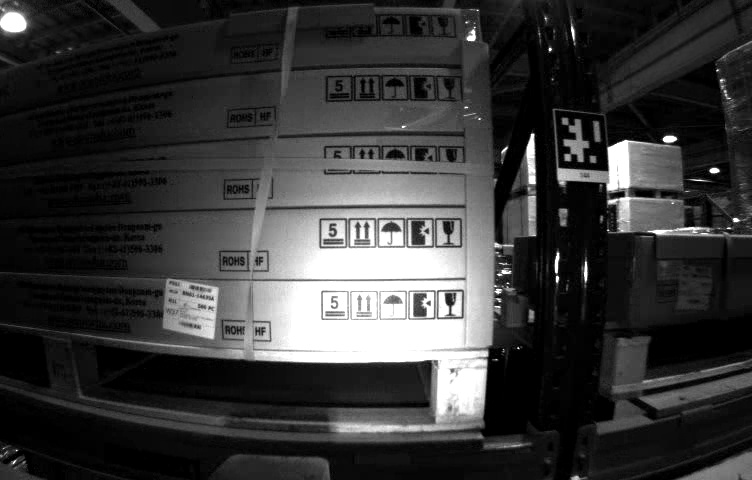True Barcode: (161, 275, 218, 341), (676, 264, 711, 314)
